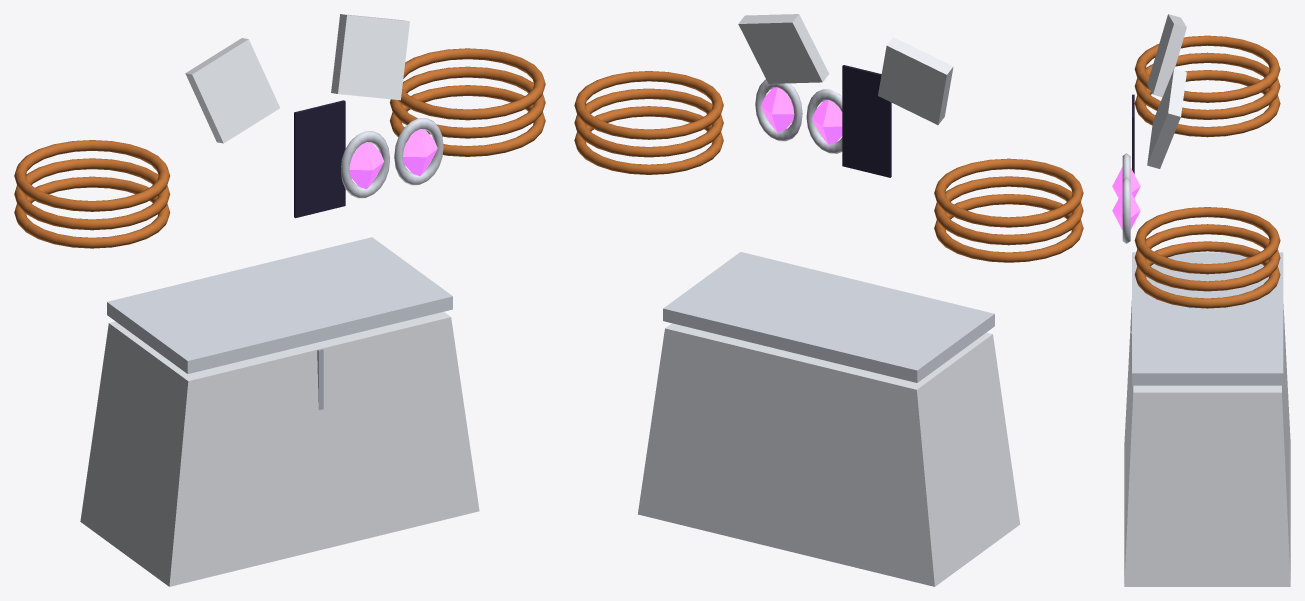
File: eqf_eqgw2.glb
3 views of the same model, side by side, from view 1: azimuth 30°, elevation 25°; view 2: azimuth 150°, elevation 25°; view 3: azimuth 270°, elevation 25° (orthographic). The views are drawn at different scales.
Bounding box in the file's own units: 4.08 × 3.84 × 1.32.
